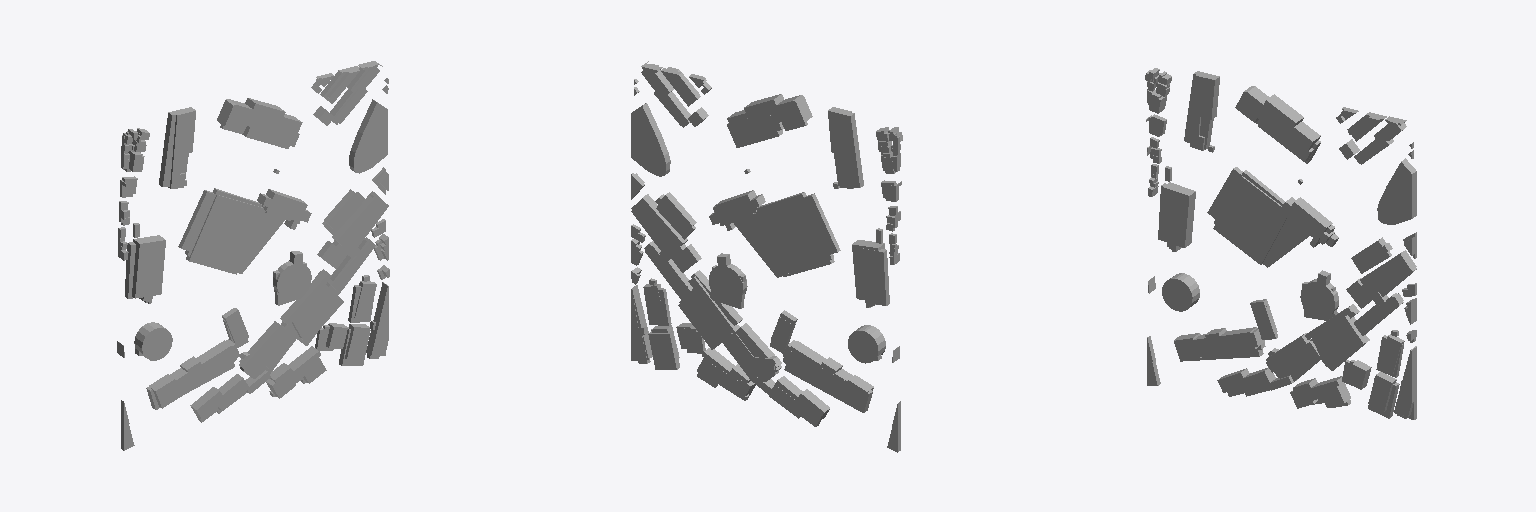
Rendered from 9e7deb0b-48c1-4383-a6dd-dbed64dd162f.obj.
3 renders of one model, left to right at view 1: azimuth 30°, elevation 25°; view 2: azimuth 150°, elevation 25°; view 3: azimuth 330°, elevation 25°, orthographic.
Visible parts, largest first — view 1: -1, osm_[number redacted], osm_[number redacted], osm_[number redacted], osm_[number redacted], osm_[number redacted], osm_[number redacted], osm_[number redacted], osm_[number redacted], osm_[number redacted], osm_[number redacted], osm_[number redacted] (+10 smaller); view 2: -1, osm_[number redacted], osm_[number redacted], osm_[number redacted], osm_[number redacted], osm_[number redacted], osm_[number redacted], osm_[number redacted], osm_[number redacted], osm_[number redacted], osm_[number redacted], osm_[number redacted] (+2 smaller); view 3: -1, osm_[number redacted], osm_[number redacted], osm_[number redacted], osm_[number redacted], osm_[number redacted], osm_[number redacted], osm_[number redacted], osm_[number redacted], osm_[number redacted], osm_[number redacted], osm_[number redacted] (+10 smaller).
Boxes of the visible parts, x1=… form: -1: x1=118, y1=61, x2=388, y2=450; osm_[number redacted]: x1=217, y1=98, x2=302, y2=146; osm_[number redacted]: x1=149, y1=339, x2=239, y2=408; osm_[number redacted]: x1=280, y1=269, x2=343, y2=342; osm_[number redacted]: x1=178, y1=188, x2=284, y2=273; osm_[number redacted]: x1=349, y1=99, x2=387, y2=173; osm_[number redacted]: x1=132, y1=235, x2=165, y2=303; osm_[number redacted]: x1=239, y1=321, x2=297, y2=376; osm_[number redacted]: x1=266, y1=346, x2=326, y2=398; osm_[number redacted]: x1=190, y1=370, x2=270, y2=419; osm_[number redacted]: x1=332, y1=191, x2=388, y2=251; osm_[number redacted]: x1=273, y1=251, x2=311, y2=299; -1: x1=631, y1=63, x2=900, y2=452; osm_[number redacted]: x1=734, y1=192, x2=840, y2=277; osm_[number redacted]: x1=631, y1=103, x2=670, y2=176; osm_[number redacted]: x1=828, y1=108, x2=863, y2=187; osm_[number redacted]: x1=727, y1=94, x2=812, y2=130; osm_[number redacted]: x1=709, y1=253, x2=747, y2=302; osm_[number redacted]: x1=848, y1=325, x2=885, y2=363; osm_[number redacted]: x1=783, y1=340, x2=873, y2=392; osm_[number redacted]: x1=750, y1=374, x2=829, y2=420; osm_[number redacted]: x1=852, y1=240, x2=884, y2=307; osm_[number redacted]: x1=655, y1=192, x2=696, y2=233; osm_[number redacted]: x1=697, y1=348, x2=755, y2=395; -1: x1=1147, y1=72, x2=1416, y2=419; osm_[number redacted]: x1=1235, y1=86, x2=1320, y2=161; osm_[number redacted]: x1=1158, y1=182, x2=1195, y2=251; osm_[number redacted]: x1=1174, y1=327, x2=1264, y2=360; osm_[number redacted]: x1=1207, y1=167, x2=1309, y2=267; osm_[number redacted]: x1=1305, y1=304, x2=1368, y2=366; osm_[number redacted]: x1=1377, y1=158, x2=1416, y2=224; osm_[number redacted]: x1=1290, y1=376, x2=1350, y2=408; osm_[number redacted]: x1=1300, y1=270, x2=1338, y2=318; osm_[number redacted]: x1=1282, y1=197, x2=1334, y2=247; osm_[number redacted]: x1=1266, y1=333, x2=1319, y2=375; osm_[number redacted]: x1=1217, y1=367, x2=1297, y2=393.
Size of the model in its own units: 342 by 401 by 30.56.